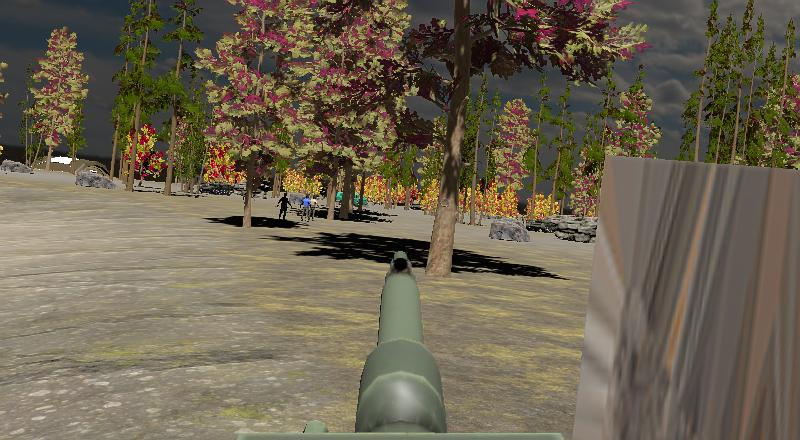Human: (301, 193, 312, 224)
Tank: (199, 180, 235, 197)
